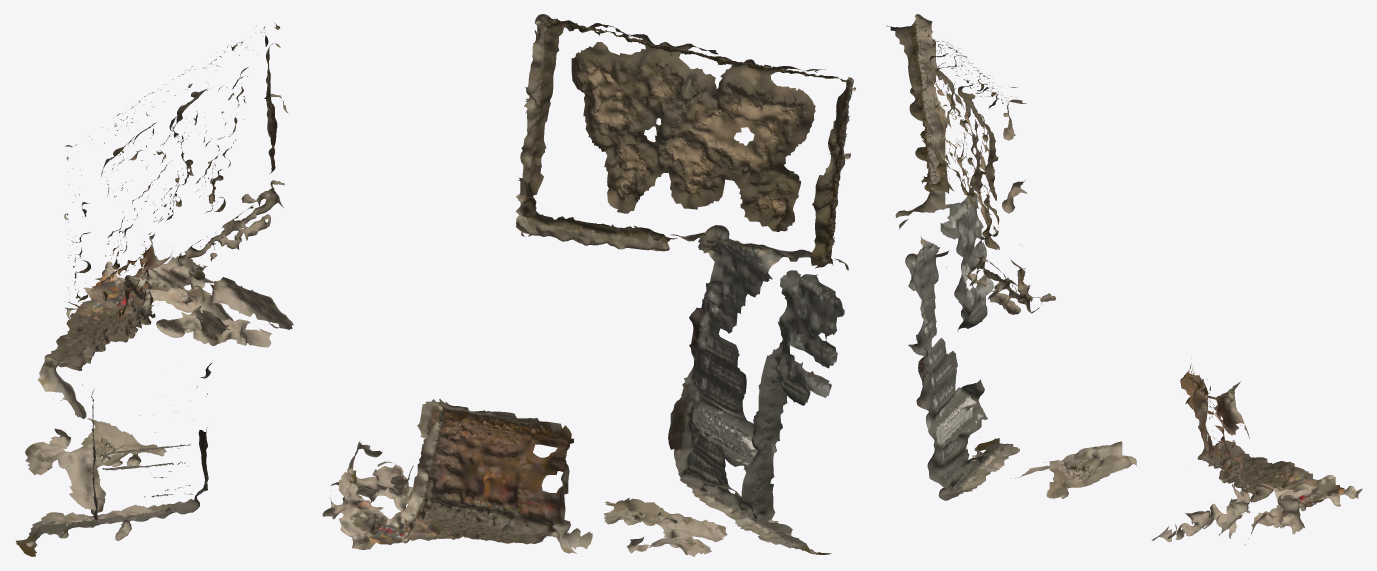
File: room.glb
The picture shows the model from 3 angles, left to right: view 1: azimuth 30°, elevation 25°; view 2: azimuth 150°, elevation 25°; view 3: azimuth 270°, elevation 25°; orthographic projection. The views are drawn at different scales.
Bounding box in the file's own units: 4.9 × 5.85 × 5.32.
